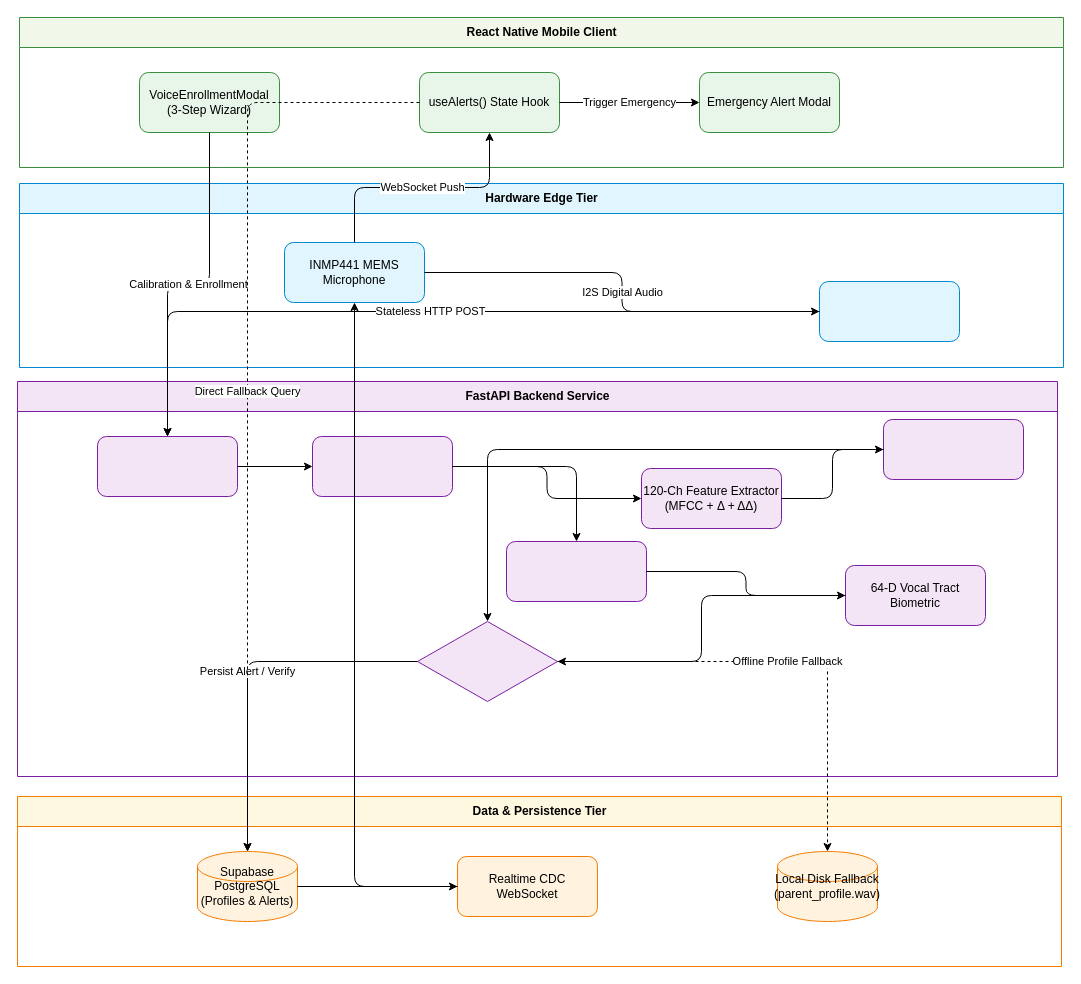
Some shapes in this 1081 by 984 pixel diagram are drawn without their labels. Each missing label, with the centre of its shape:
"Anti-Fatigue Decision Gate" goes at (487,661).
"Audio Ingestion Router (/api/audio/upload-chunk)" goes at (167,466).
"AudioThreatNet Classifier (1D-CNN + LSTM)" goes at (953,449).
"ESP32 Microcontroller" goes at (889,311).
"Universal PyAV Decoder" goes at (382,466).
"Voice Activity Detector & HPSS Separation" goes at (576,571).
